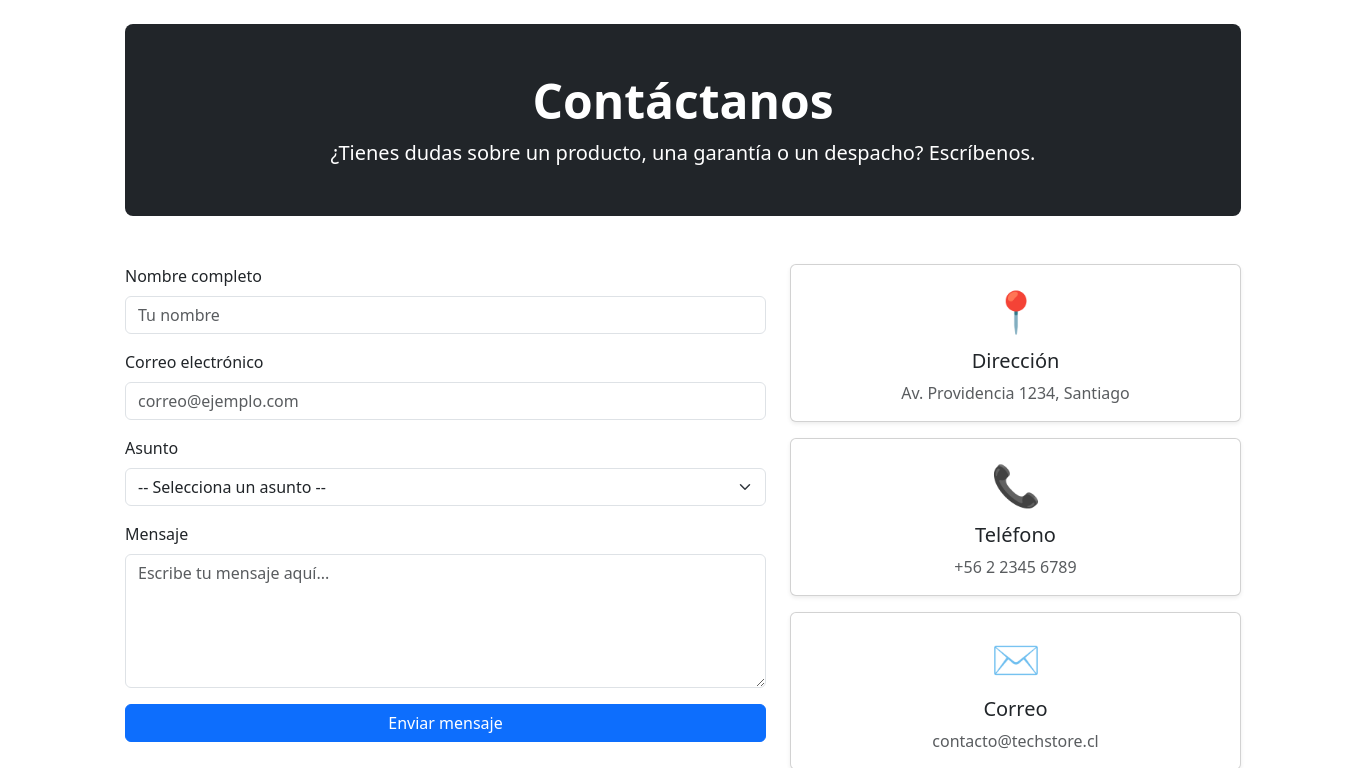
Scenario: Contacto › confirma el envío y limpia el formulario cuando los datos son válidos
Step 1. Type "Ana Pérez" into the field labelled "Nombre completo" → point(446, 315), box [125,296,766,334]
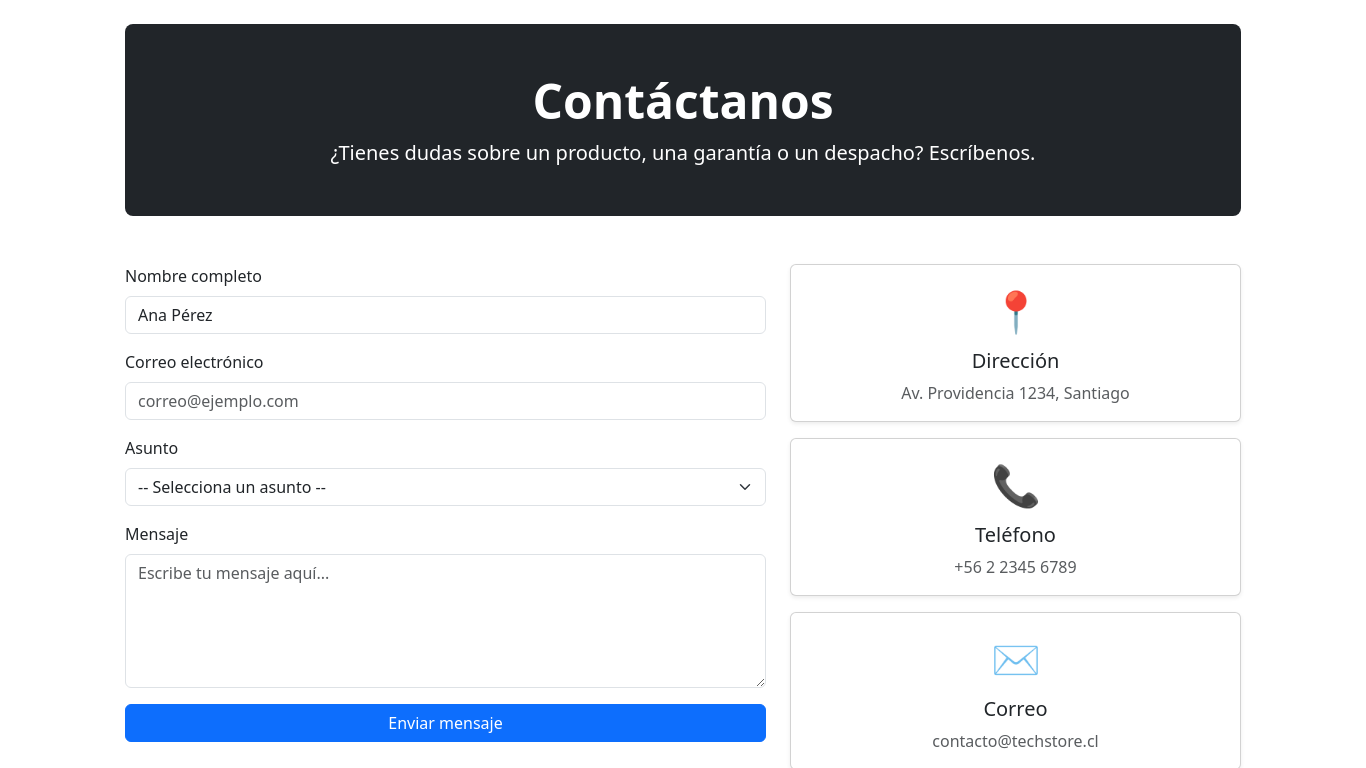
Step 2. Type "ana@correo.cl" into the field labelled "Correo electrónico" → point(446, 401), box [125,382,766,420]
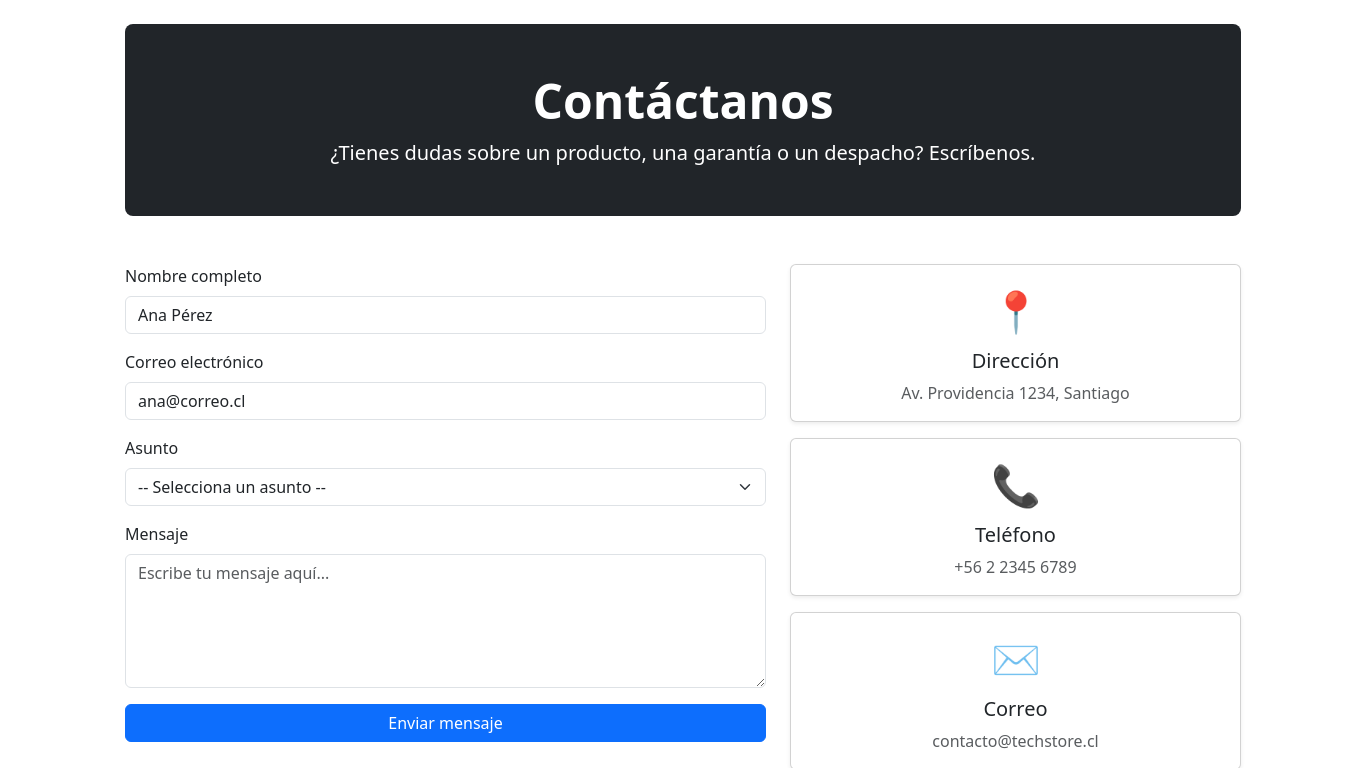
Step 3. Select "Garantía" in the dropdown labelled "Asunto" → point(446, 487), box [125,468,766,506]
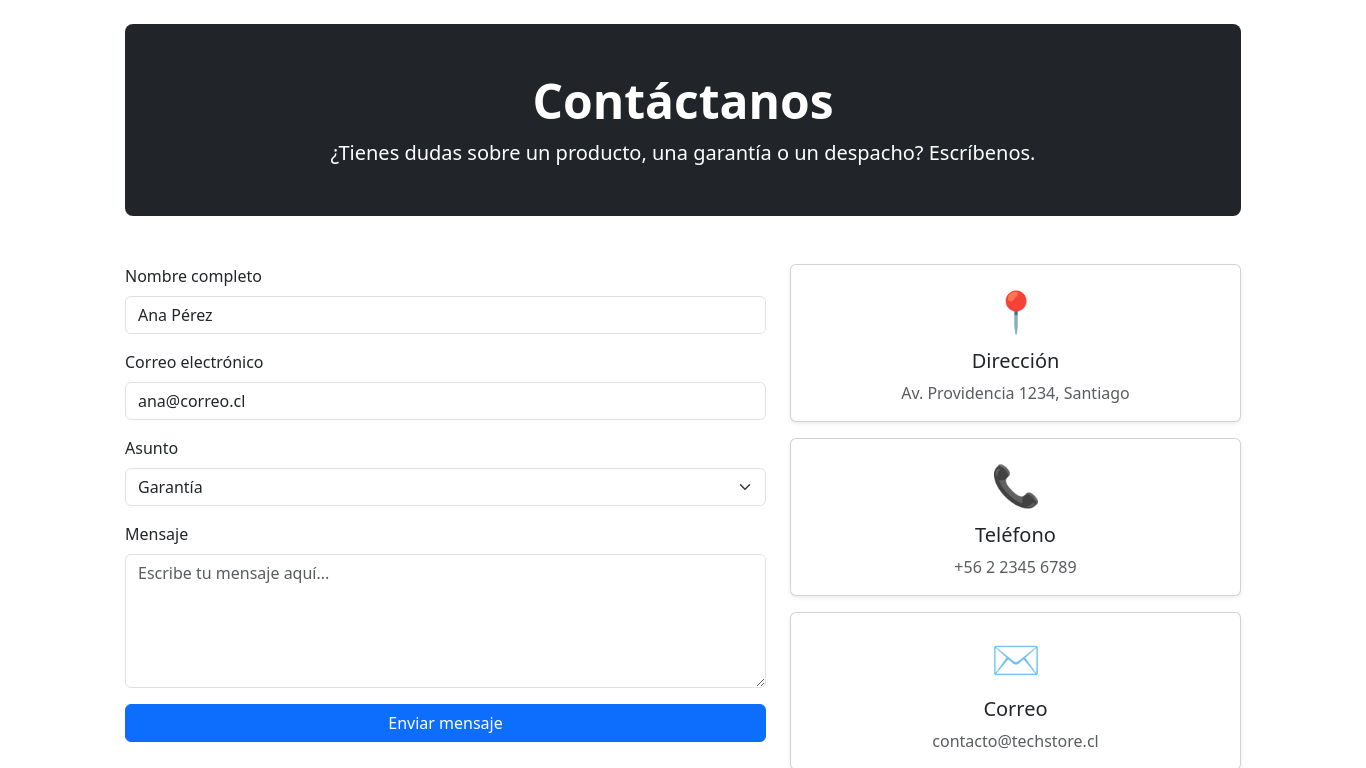
Step 4. Type "Hola, tengo una consulta." into the text box labelled "Mensaje" → point(446, 621), box [125,554,766,688]
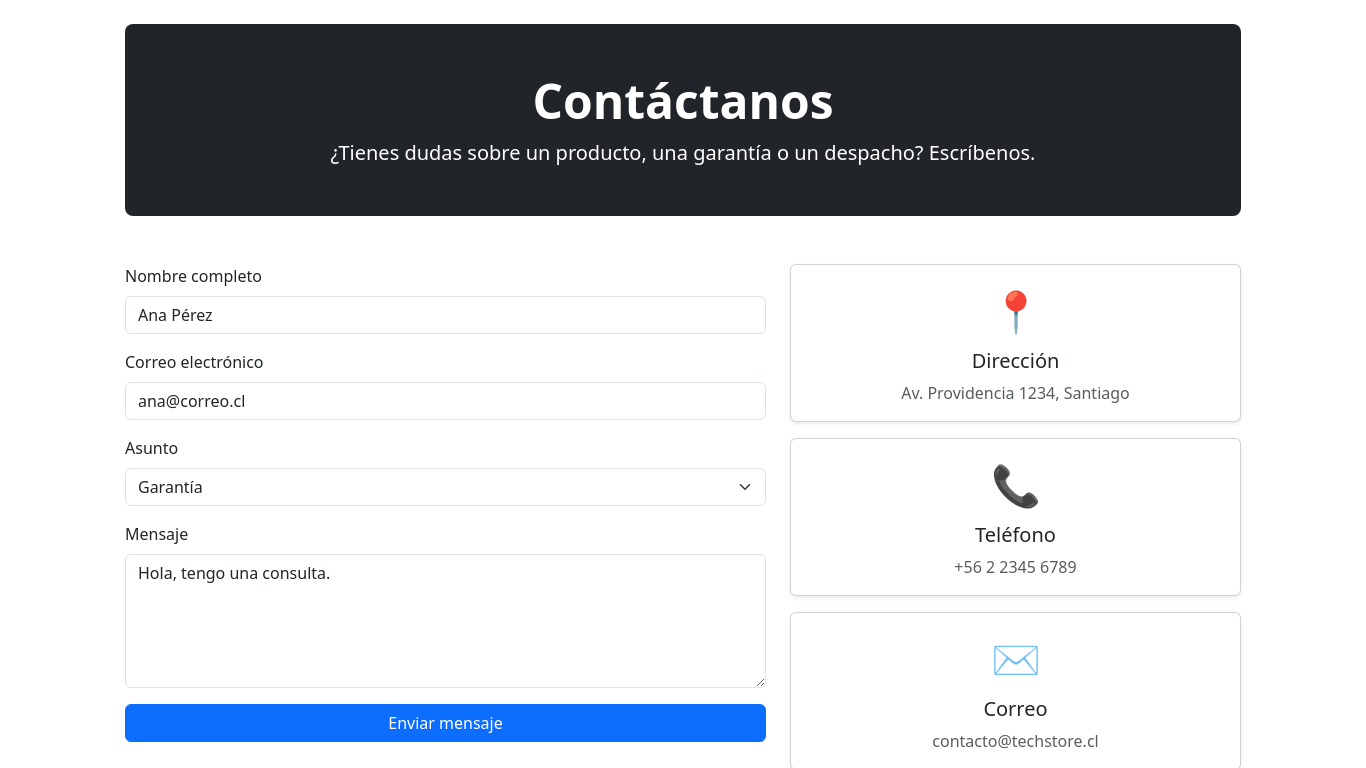
Step 5. Click the button "Enviar mensaje" → point(446, 723), box [125,704,766,742]
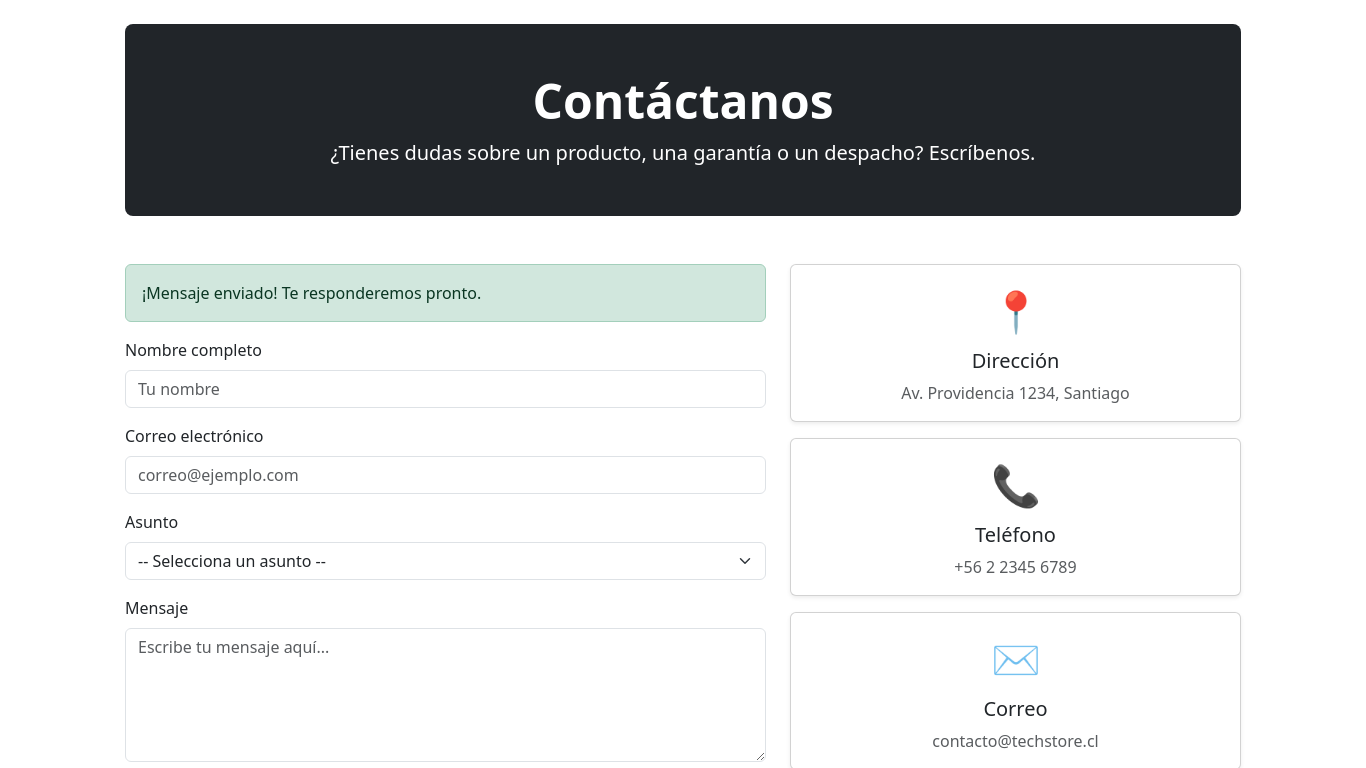
Now the message shows "¡Mensaje enviado!", box [142,282,481,304]
Now the field labelled "Nombre completo" is empty, box [125,370,766,408]
